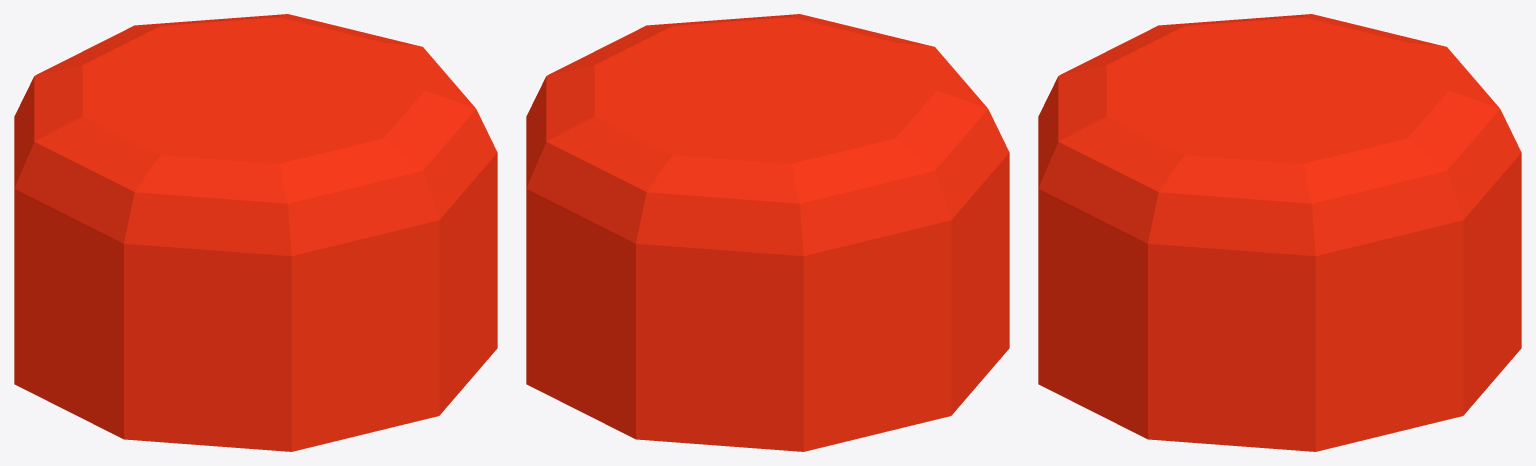
Rendered from BotonRojo.fbx.
3 renders of one model, left to right at view 1: azimuth 30°, elevation 25°; view 2: azimuth 150°, elevation 25°; view 3: azimuth 270°, elevation 25°, orthographic.
Parts seen in each view (by area): view 1: BotonRojo; view 2: BotonRojo; view 3: BotonRojo.
Boxes of the visible parts, left/top/right/bottom form: BotonRojo: left=14, top=14, right=497, bottom=451; BotonRojo: left=526, top=14, right=1009, bottom=451; BotonRojo: left=1038, top=14, right=1521, bottom=451.
Size of the model in its own units: 69.05 by 40 by 68.
